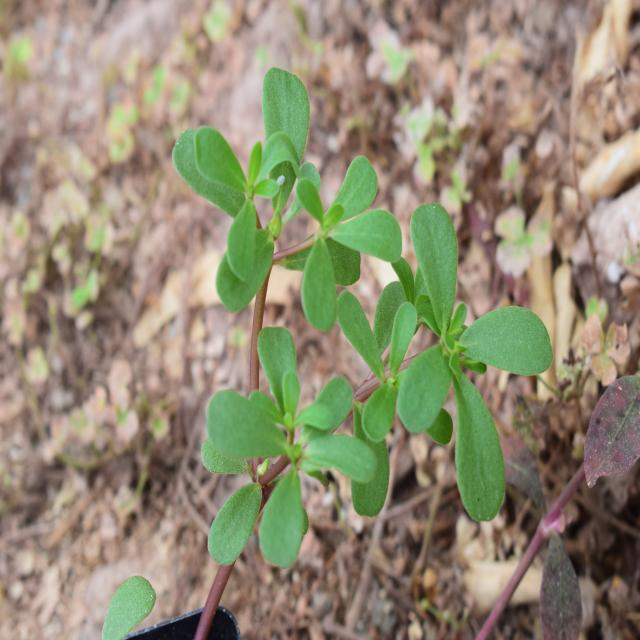purslane: (160, 70, 545, 544)
